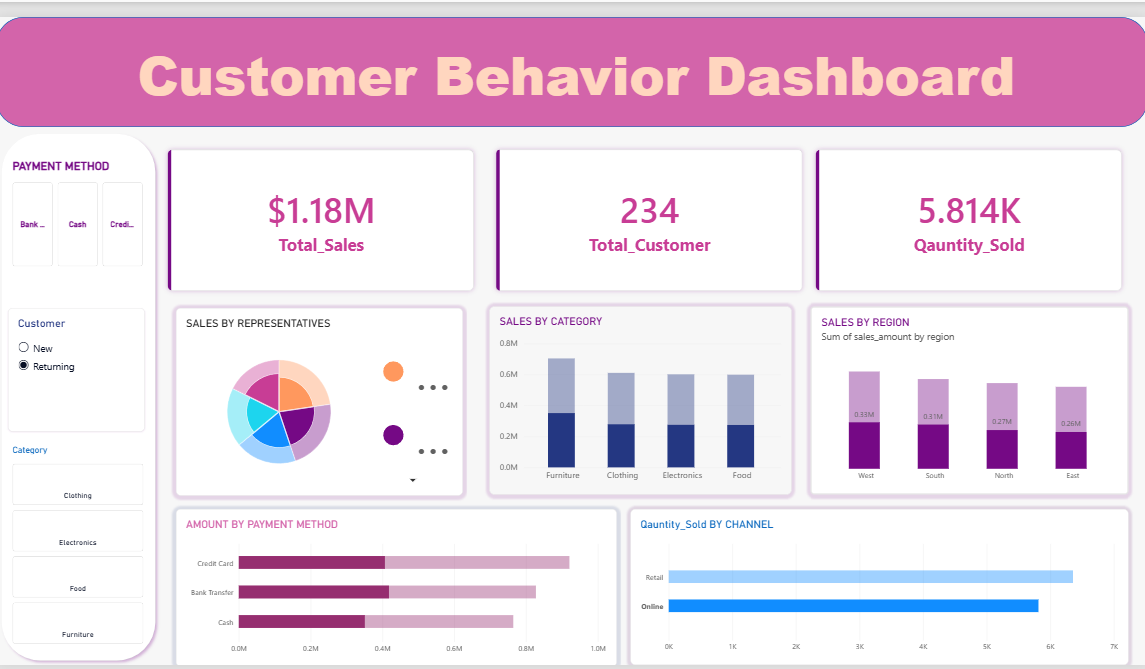

The page's visual inventory and layout, read from the dashboard file:
{"tool":"powerbi","page":{"name":"Page 1","canvas":[1920,1080],"ordinal":0},"visuals":[{"type":"textbox","box":[150,88,300,300],"z":0},{"type":"shape","box":[0,0,1920,183.3],"z":1000},{"type":"textbox","box":[48.2,25.5,1870.9,158.7],"z":2000},{"type":"cardVisual","fields":{"Data":["sales_db sales_data.total_sales"]},"box":[275,209.8,532.9,258],"z":3000},{"type":"cardVisual","fields":{"Data":["sales_db sales_data.Total_Customer"]},"box":[822.1,209.8,532.9,258],"z":4000},{"type":"cardVisual","fields":{"Data":["sales_db sales_data.Qauntity_Sold"]},"box":[1355,209.8,532.9,258],"z":5000},{"type":"clusteredColumnChart","title":"SALES BY REGION","fields":{"Category":["sales_db sales_data.region"],"Y":["Sum(sales_db sales_data.sales_amount)"]},"box":[1356.7,483.3,530,313.3],"z":7000},{"type":"clusteredColumnChart","title":"SALES BY CATEGORY","fields":{"Category":["sales_db sales_data.product_category"],"Y":["Sum(sales_db sales_data.sales_amount)"]},"box":[823.3,483.3,503.3,313.3],"z":8000},{"type":"shape","box":[0,184.4,275,896.9],"z":8002},{"type":"advancedSlicerVisual","title":"PAYMENT METHOD","fields":{"Values":["sales_db sales_data.payment_method"]},"box":[28.1,237.5,218.8,178.1],"z":8003},{"type":"listSlicer","title":"Customer","fields":{"Values":["sales_db sales_data.customer_type"]},"box":[18.8,484.4,228.1,206.2],"z":8004},{"type":"pieChart","title":"SALES BY REPRESENTATIVES","fields":{"Category":["sales_db sales_data.sales_rep"],"Y":["Sum(sales_db sales_data.sales_amount)"]},"box":[300,484.4,478.1,312.5],"z":8005},{"type":"advancedSlicerVisual","title":"Category","fields":{"Values":["sales_db sales_data.product_category"]},"box":[28.1,712.5,218.8,334.4],"z":8006},{"type":"clusteredBarChart","title":"AMOUNT BY PAYMENT METHOD","fields":{"Category":["sales_db sales_data.payment_method"],"Y":["Sum(sales_db sales_data.sales_amount)"]},"box":[300,818.8,734.4,262.5],"z":8007},{"type":"clusteredBarChart","title":"Qauntity_Sold BY CHANNEL","fields":{"Category":["sales_db sales_data.sales_channel"],"Y":["sales_db sales_data.Qauntity_Sold"]},"box":[1057.5,820,830,260],"z":8008}]}

Visuals, with their boxes in screenshot pixels (x1, y1, x2, y2):
textbox: left=80, top=66, right=262, bottom=249
shape: left=0, top=12, right=1144, bottom=124
textbox: left=17, top=27, right=1144, bottom=124
cardVisual - sales_db sales_data.total_sales: left=156, top=140, right=481, bottom=297
cardVisual - sales_db sales_data.Total_Customer: left=489, top=140, right=814, bottom=297
cardVisual - sales_db sales_data.Qauntity_Sold: left=814, top=140, right=1139, bottom=297
"SALES BY REGION" clusteredColumnChart: left=815, top=307, right=1138, bottom=498
"SALES BY CATEGORY" clusteredColumnChart: left=490, top=307, right=797, bottom=498
shape: left=0, top=124, right=156, bottom=668
"PAYMENT METHOD" advancedSlicerVisual: left=5, top=157, right=139, bottom=265
"Customer" listSlicer: left=0, top=307, right=139, bottom=433
"SALES BY REPRESENTATIVES" pieChart: left=171, top=307, right=463, bottom=498
"Category" advancedSlicerVisual: left=5, top=446, right=139, bottom=650
"AMOUNT BY PAYMENT METHOD" clusteredBarChart: left=171, top=511, right=619, bottom=668
"Qauntity_Sold BY CHANNEL" clusteredBarChart: left=633, top=512, right=1139, bottom=668
